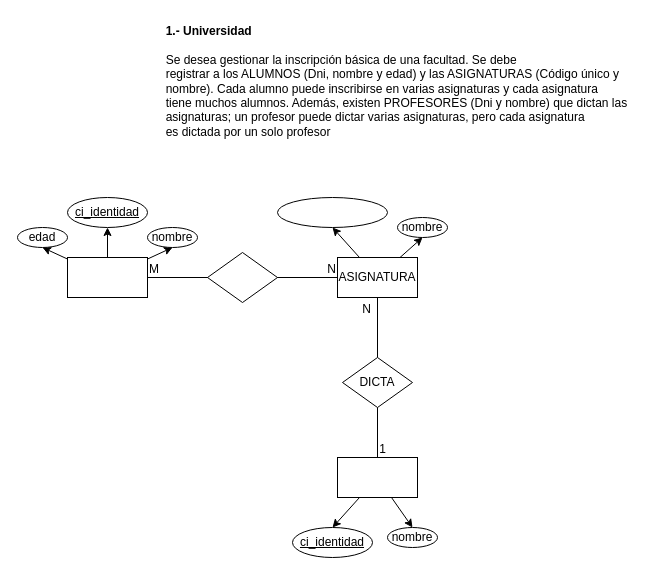
Image size: 650x575. Some labels were removed from this diagram. The shapes that lost their labels are listed below. From the top down, each one's box as (x1, y1, x2, y2) in pixels, then its label:
(276, 196, 388, 228): codigo_asignatura
(66, 256, 148, 298): ALUMNO
(206, 252, 278, 302): INSCRIBE
(336, 456, 418, 498): PROFESOR
